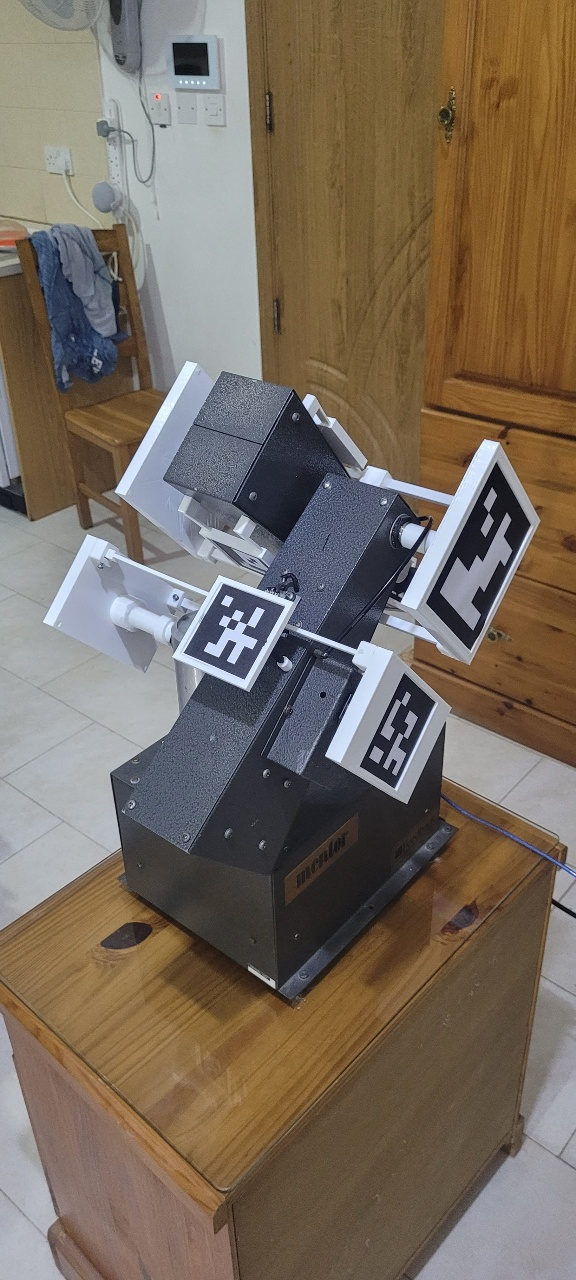Robot: (42, 358, 544, 879)
